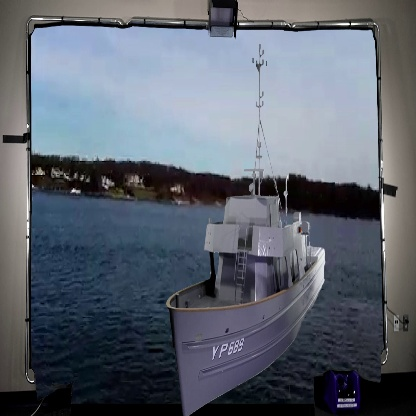YP689: (167, 48, 328, 412)
